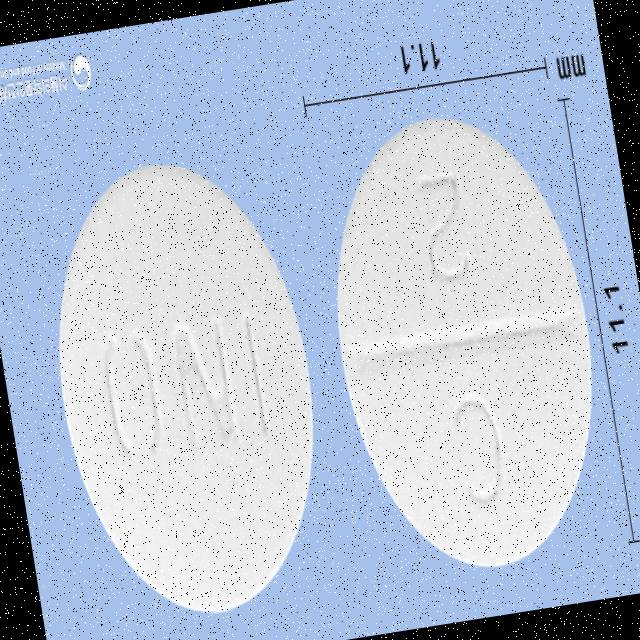Citopcin: (19, 132, 353, 640), (300, 90, 628, 598)
